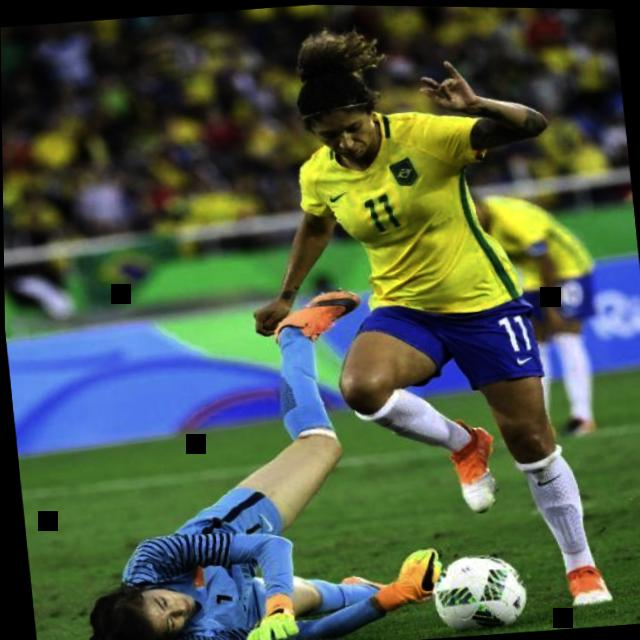Fall-Detected: (17, 262, 434, 640)
